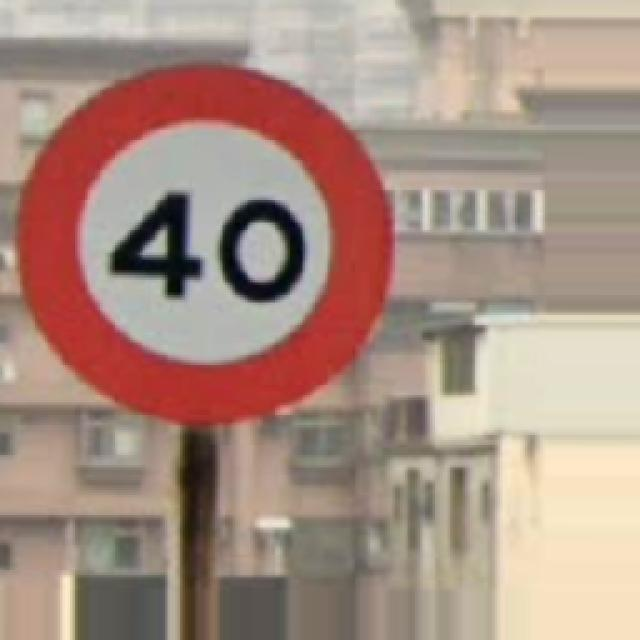Speed Limit -40-: (20, 65, 390, 422)
